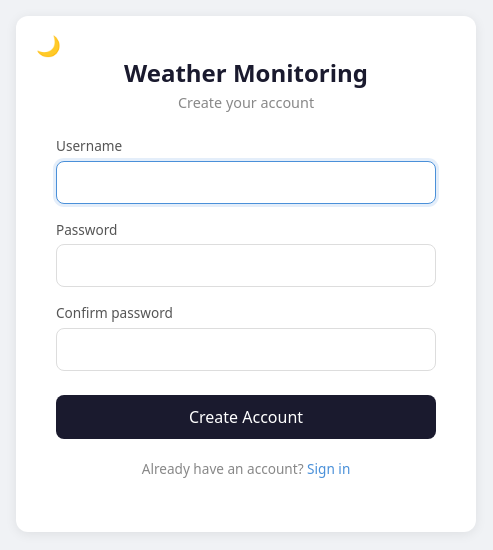
Test: RegisterPage › shows success message after successful registration
Type "ruben" into the field labelled "Username" at (246, 182), box [56,161,436,204]
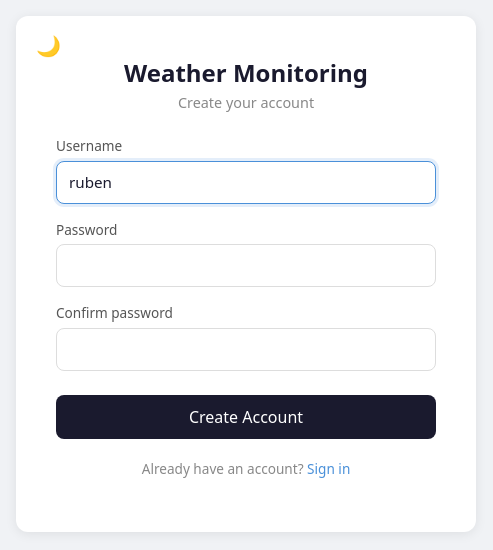
Type "1234" into the password field labelled "Password" at (246, 266), box [56,244,436,287]
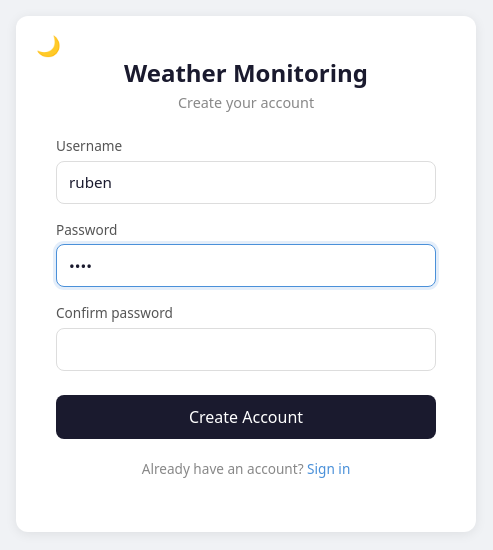
Type "1234" into the password field labelled "Confirm password" at (246, 349), box [56,328,436,371]
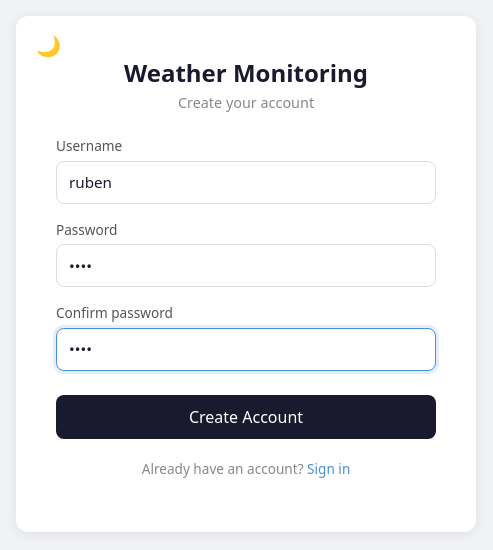
Click the button "Create Account" at (246, 417), box [56,395,436,439]
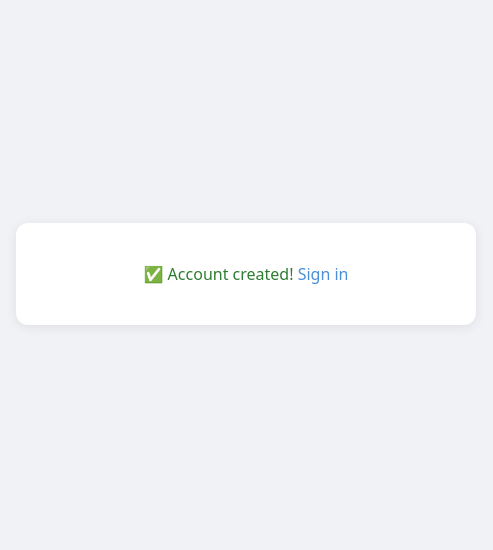
Now the text "✅ Account created!" is shown, box [144,263,298,285]
